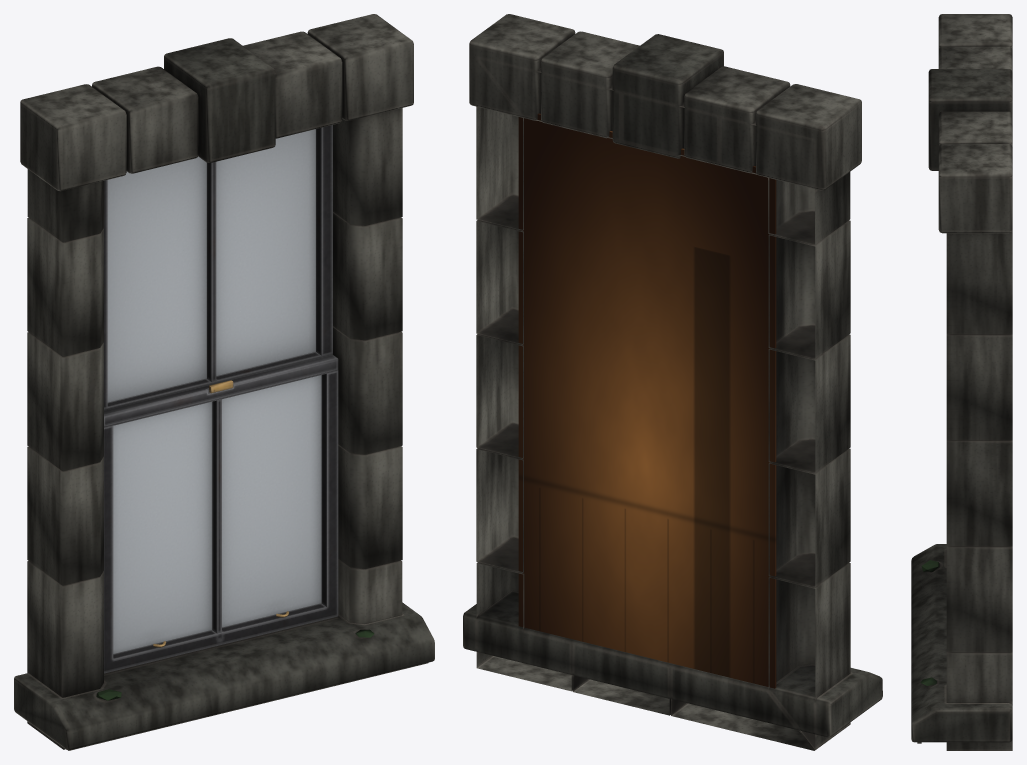
File: PlainSash.fbx
3 views of the same model, side by side, from view 1: azimuth 30°, elevation 25°; view 2: azimuth 150°, elevation 25°; view 3: azimuth 270°, elevation 25° (orthographic). The views are drawn at different scales.
Parts seen in each view (by area): view 1: PlainSash_Main, PlainSash_Glass; view 2: PlainSash_Room, PlainSash_Main; view 3: PlainSash_Main.
Boxes of the visible parts, x1,y1,x2,y2 form: PlainSash_Main: (14,14,434,750); PlainSash_Glass: (107,129,321,653); PlainSash_Room: (518,113,776,688); PlainSash_Main: (463,14,882,750); PlainSash_Main: (911,14,1012,750).
Bounding box in the file's own units: 390 × 645 × 100.
